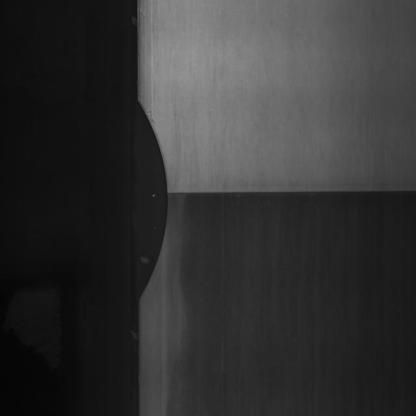crescent_gap: (134, 93, 172, 304)
welding_line: (168, 182, 414, 203)
